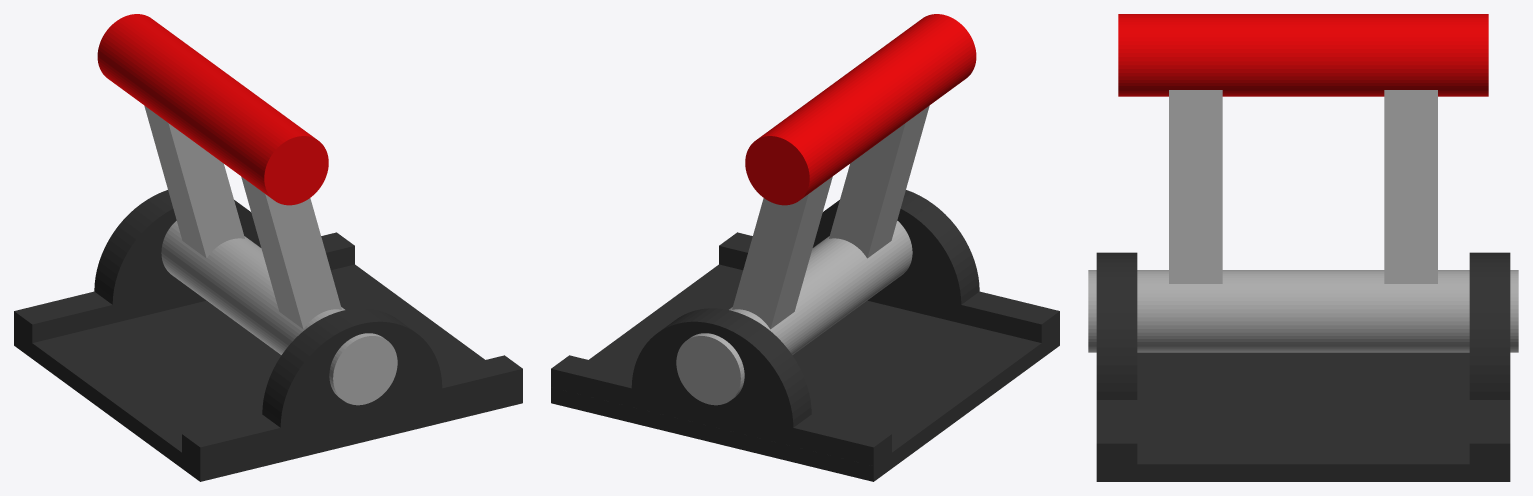
File: switch.fbx
3 views of the same model, side by side, from view 1: azimuth 30°, elevation 25°; view 2: azimuth 150°, elevation 25°; view 3: azimuth 270°, elevation 25° (orthographic). The views are drawn at different scales.
Parts seen in each view (by area): view 1: ground, handle; view 2: ground, handle; view 3: handle, ground.
Part boxes in pixels (x1,y1,x2,y2): ground: (14,190,522,481); handle: (97,14,397,405); ground: (551,190,1059,481); handle: (676,14,976,405); handle: (1088,14,1518,352); ground: (1096,252,1510,481).
Size of the model in its own units: 100 by 92.41 by 104.
